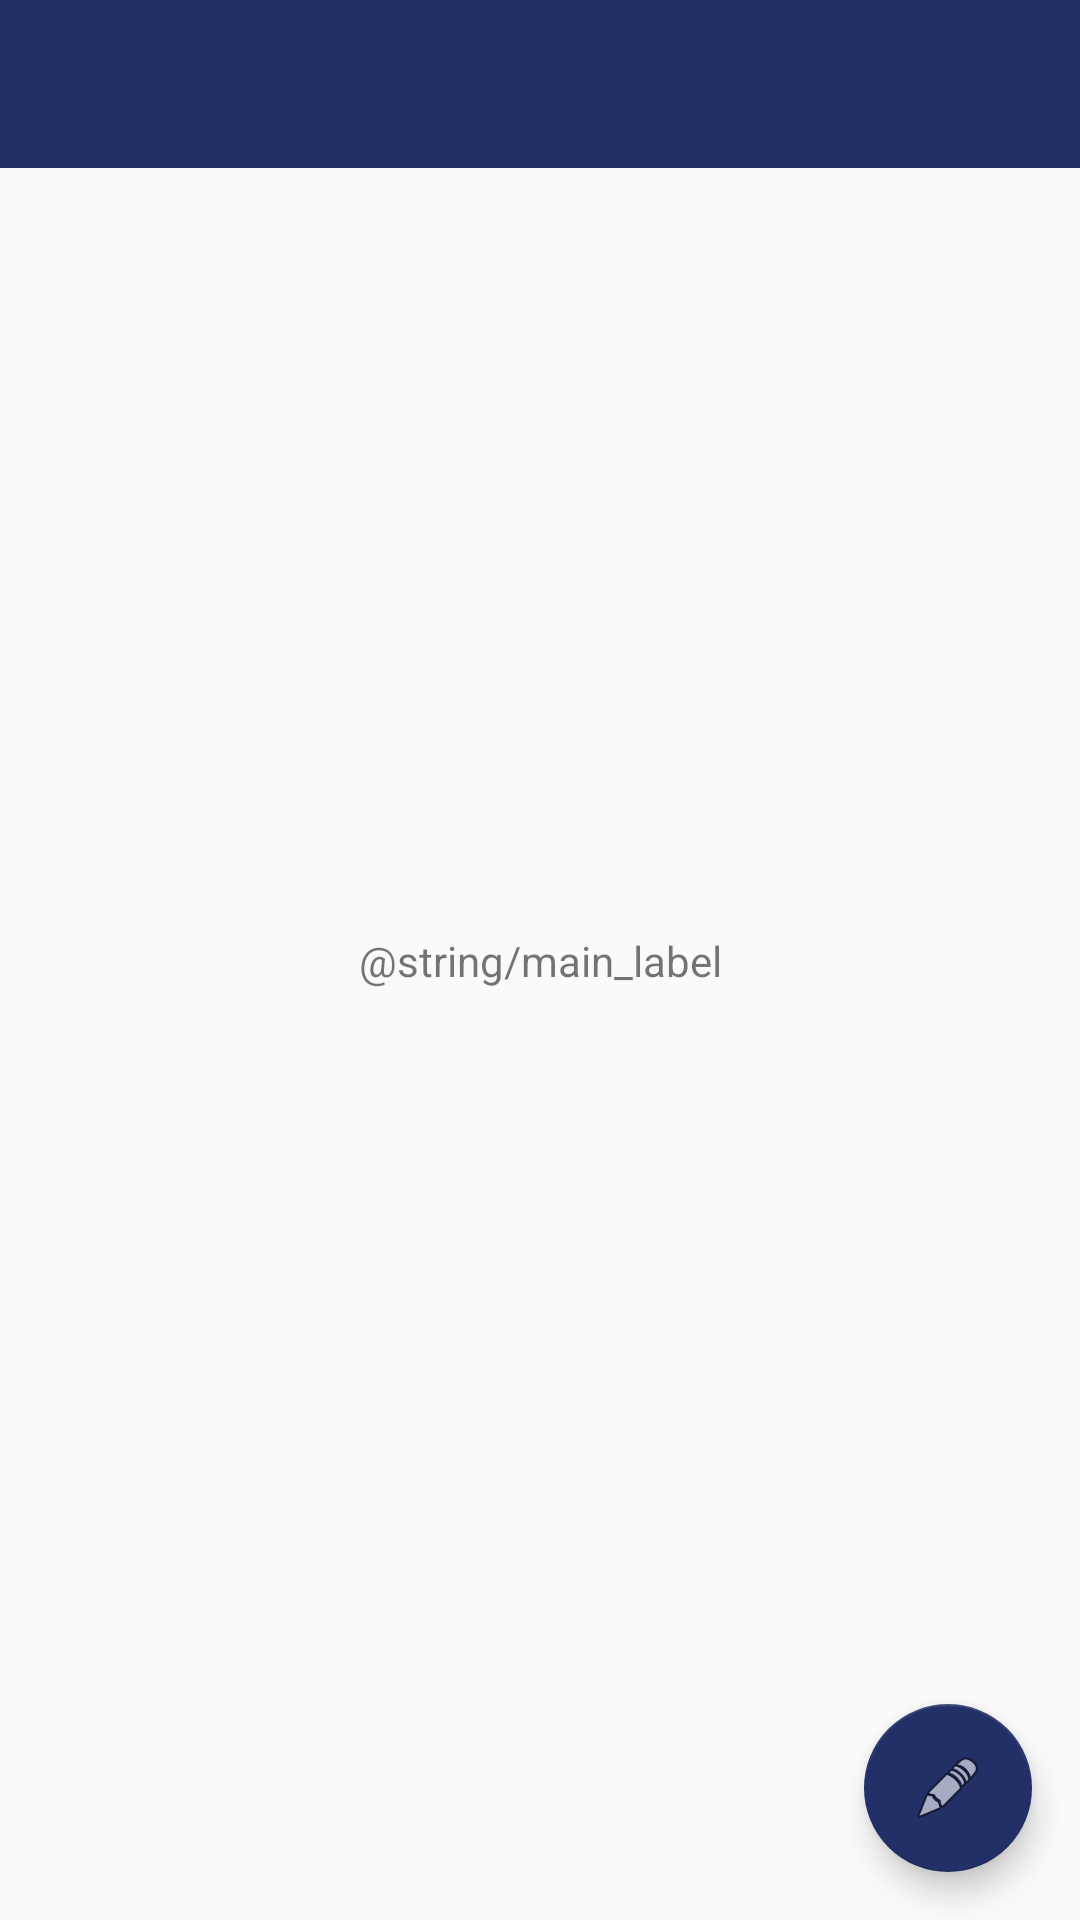

Screen size 1080x1920. Icon name, then its center in pixels as [x,y]:
edit: [948,1788]
